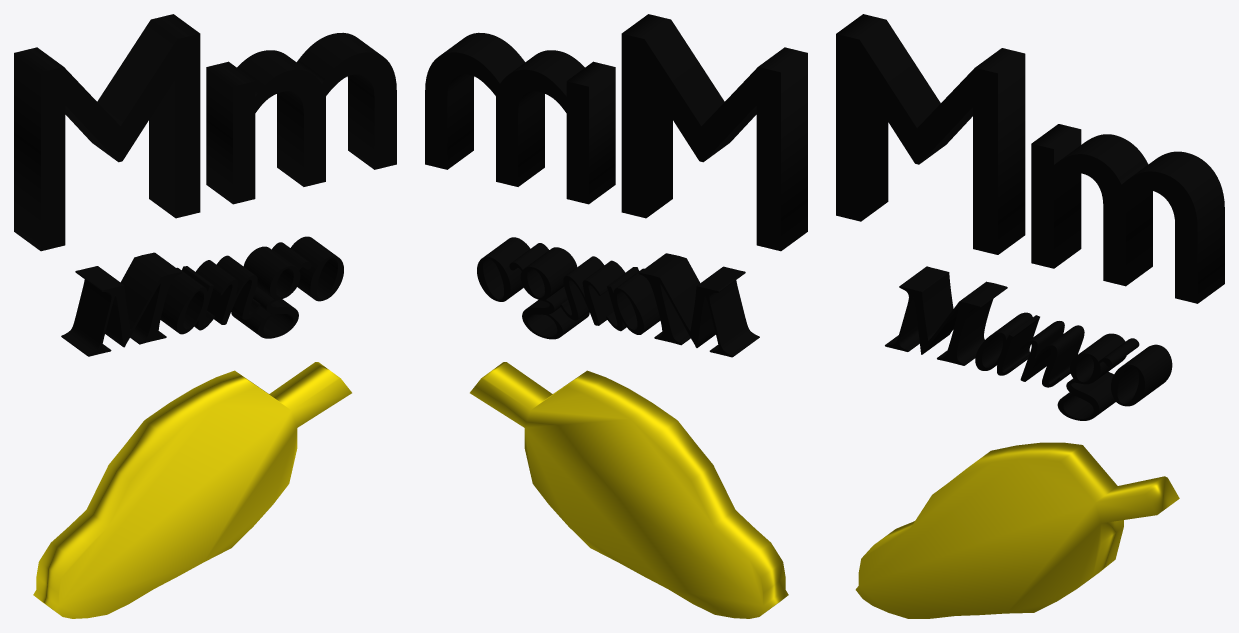
Rendered from Letter_M.glb.
The picture shows the model from 3 angles, left to right: view 1: azimuth 30°, elevation 25°; view 2: azimuth 150°, elevation 25°; view 3: azimuth 330°, elevation 25°; orthographic projection.
Visible parts, largest first — view 1: Text, Cylinder, Text.001; view 2: Text, Cylinder, Text.001; view 3: Text, Cylinder, Text.001.
Boxes of the visible parts, box(x1,y1,x2,y2) form: Text: box(14, 14, 396, 251); Cylinder: box(33, 362, 351, 618); Text.001: box(61, 236, 343, 356); Text: box(425, 14, 807, 251); Cylinder: box(470, 362, 788, 618); Text.001: box(477, 237, 759, 357); Text: box(836, 14, 1224, 303); Cylinder: box(855, 442, 1179, 618); Text.001: box(885, 266, 1172, 420).
Bounding box in the file's own units: 0.9236 × 1.39 × 0.1222.
